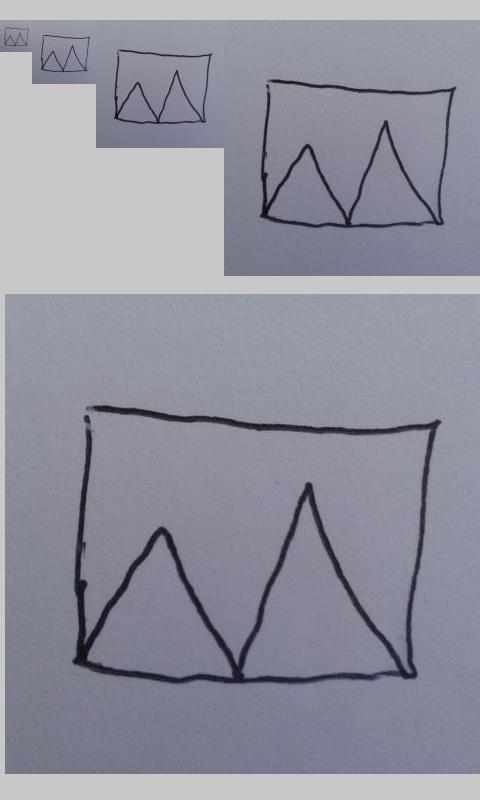image_view: (73, 403, 440, 695), (261, 76, 454, 231), (114, 48, 212, 126), (40, 34, 91, 73), (3, 26, 30, 47)
